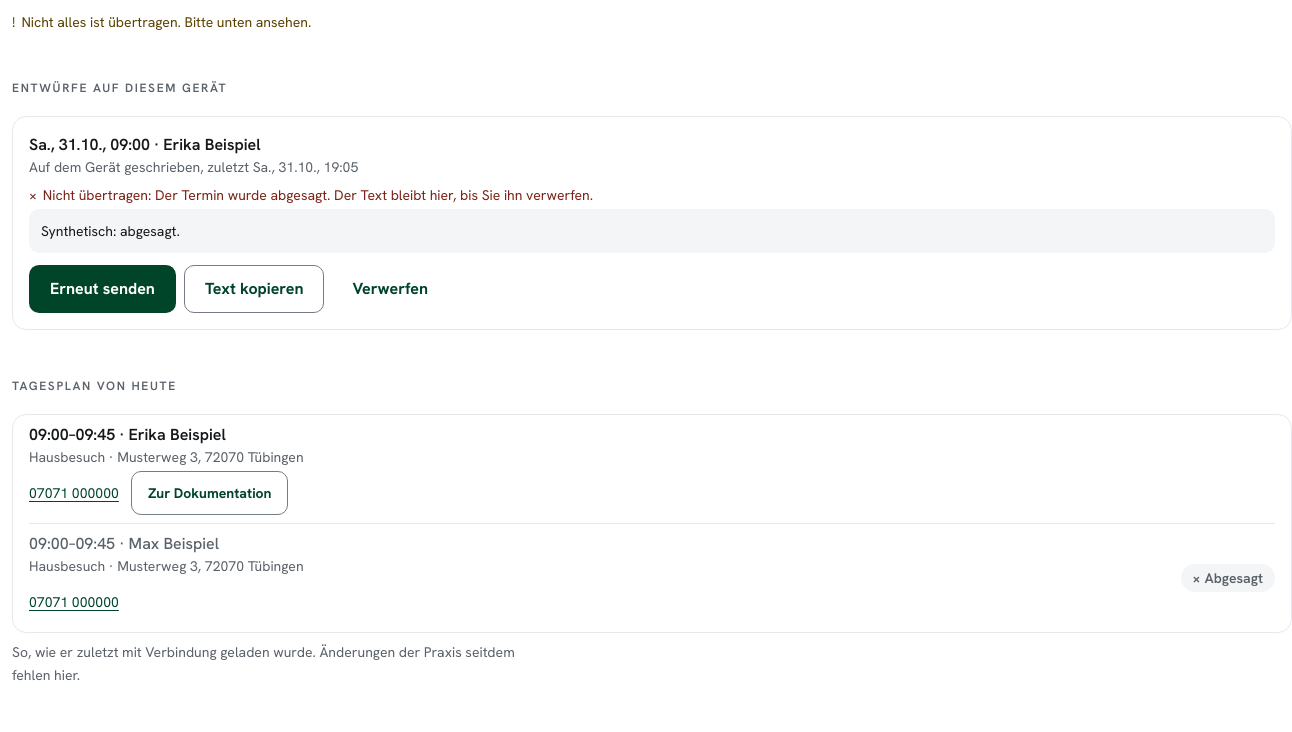
Test: AufDemGeraet › abgewiesen: mit Verbindung erneut senden, ohne Verbindung nicht (BEF-150)
Expected: the text "Der Termin wurde abgesagt" is shown, x1=43 y1=186 x2=330 y2=204
Click the button "Erneut senden" at x=102, y=289, box x1=29 y1=265 x2=176 y2=313
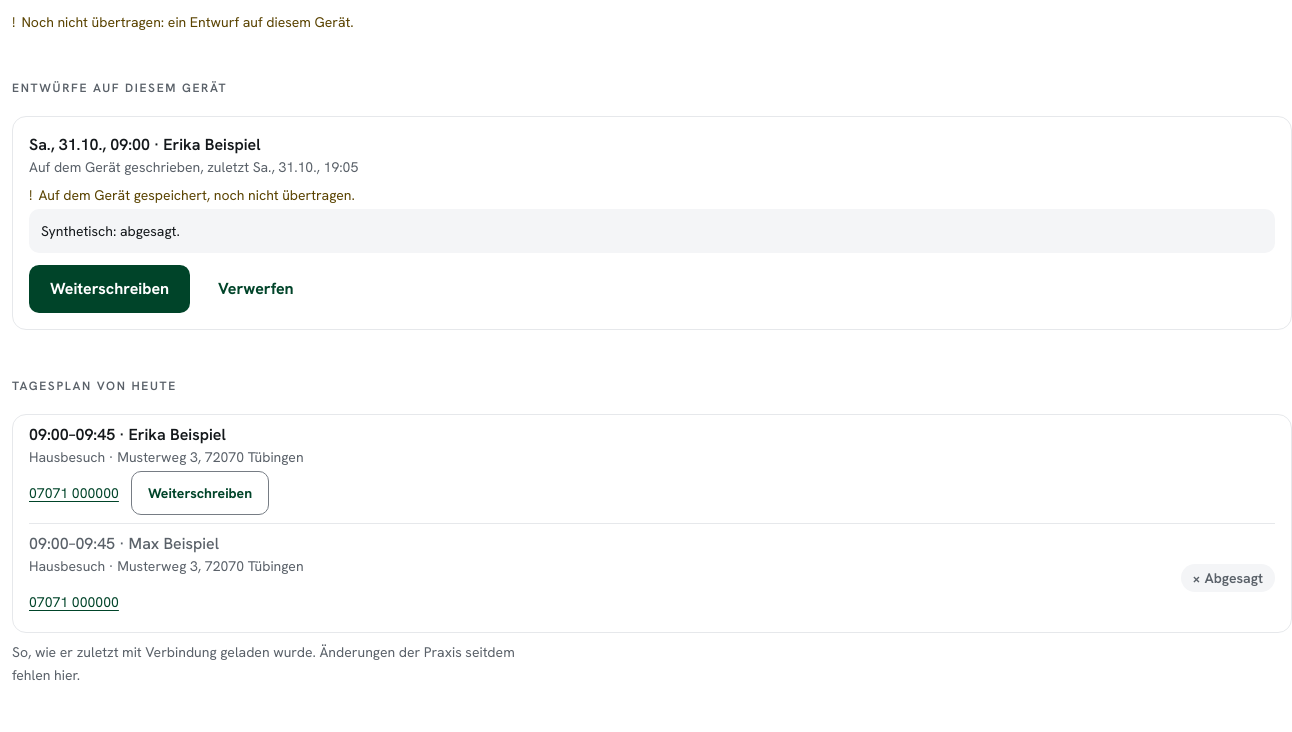
Expected: the text "Synthetisch: abgesagt." is shown, x1=29 y1=209 x2=1275 y2=253
Expected: the text "Der Termin wurde abgesagt" is gone
